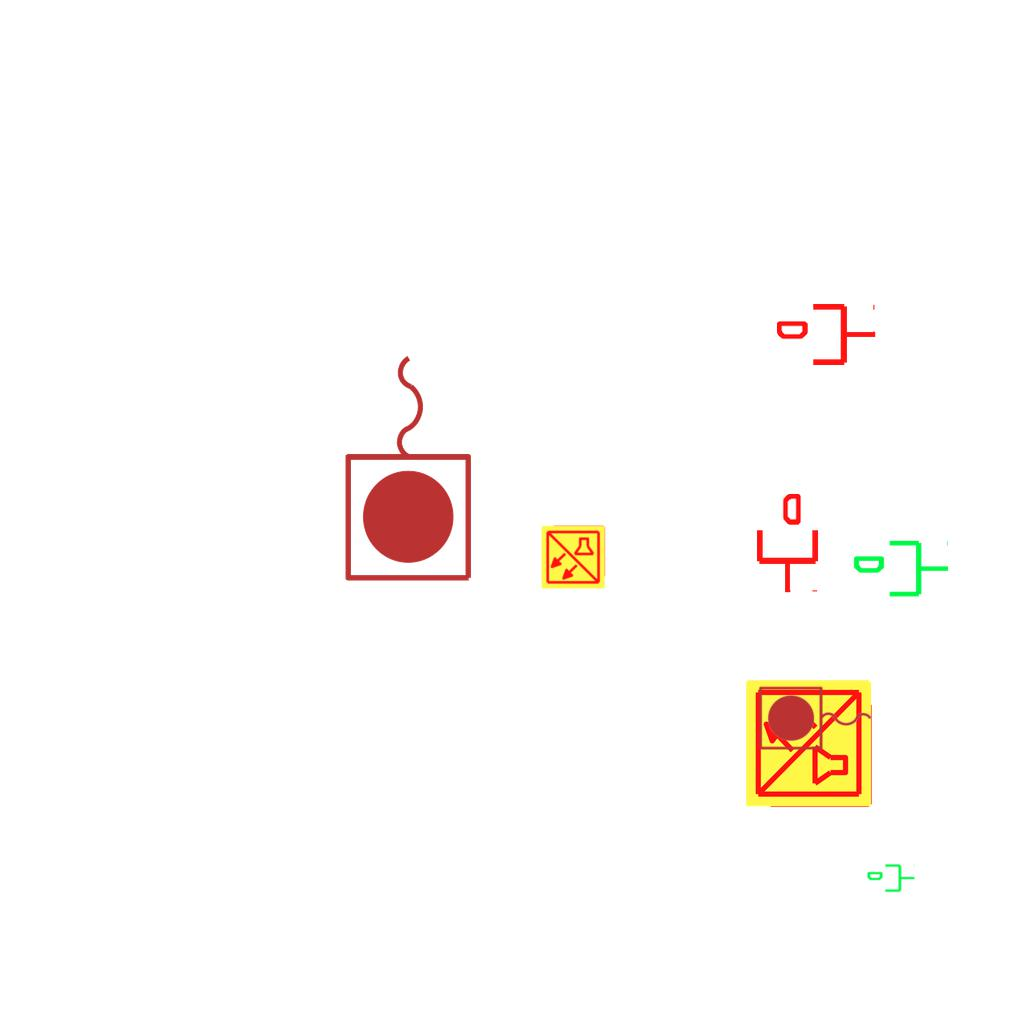Datenanschluss_einfach: (753, 494, 822, 594), (777, 300, 877, 369), (851, 536, 951, 605), (866, 862, 916, 896)
OKW_Multisensormelder_(Kombination_optischer_Rauch-Kahlenmonoxid_Waerme-Melder): (743, 677, 875, 809), (540, 524, 606, 590)
Zugtaster: (338, 345, 482, 589), (755, 683, 877, 755)
